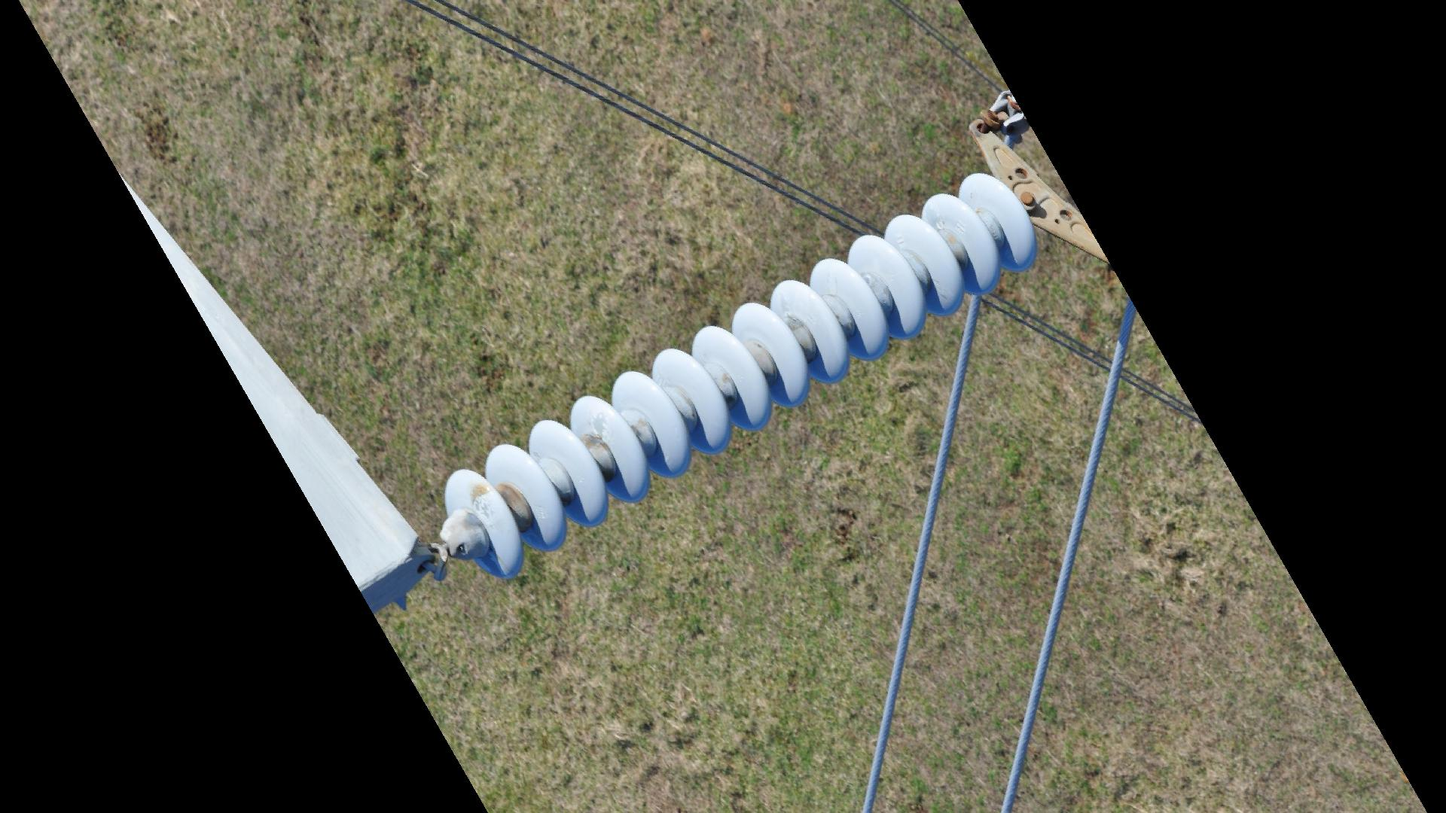insulator: (436, 166, 1042, 586)
insulator_flashover: (470, 484, 506, 525), (590, 406, 611, 440)
